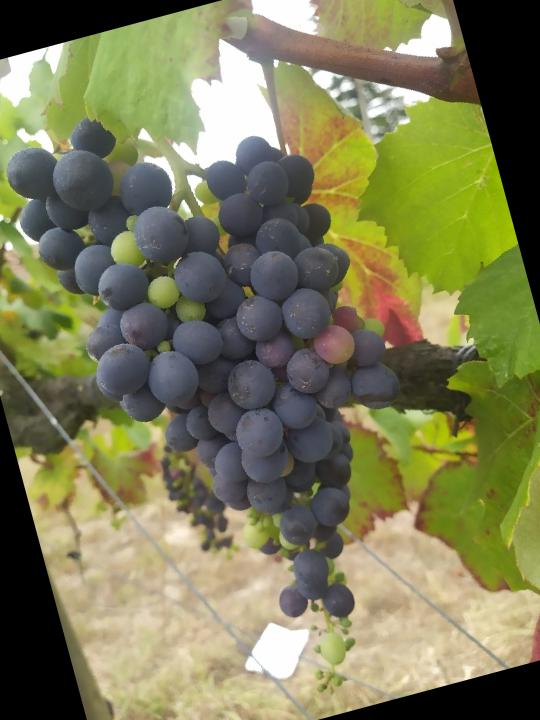grape: (0, 56, 475, 720)
